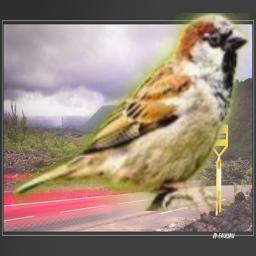Sparrow: (13, 13, 249, 211)
